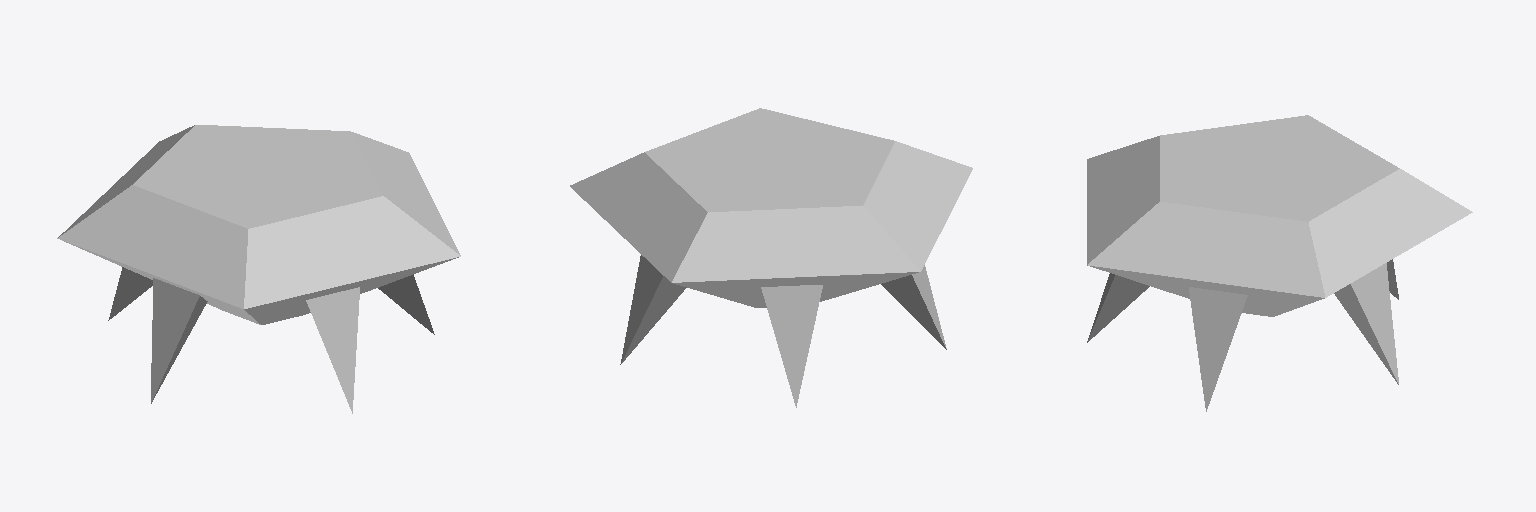
Rendered from flying_enemy.obj.
3 views of the same model, side by side, from view 1: azimuth 30°, elevation 25°; view 2: azimuth 150°, elevation 25°; view 3: azimuth 270°, elevation 25° (orthographic).
Parts seen in each view (by area): view 1: Mesh1 Model; view 2: Mesh1 Model; view 3: Mesh1 Model.
Boxes of the visible parts, x1=… form: Mesh1 Model: x1=57, y1=125, x2=460, y2=413; Mesh1 Model: x1=570, y1=108, x2=972, y2=407; Mesh1 Model: x1=1087, y1=115, x2=1472, y2=411.
Size of the model in its own units: 8.42 by 4 by 8.01.